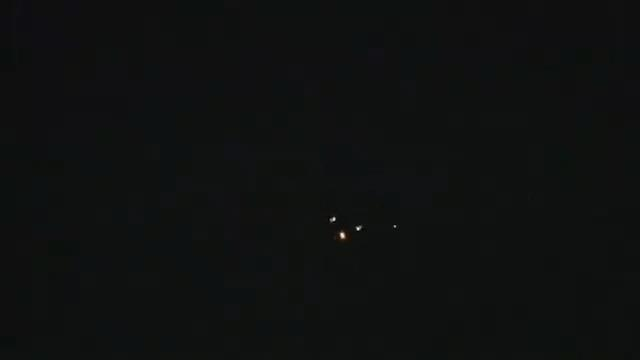Plane: (301, 206, 385, 255)
